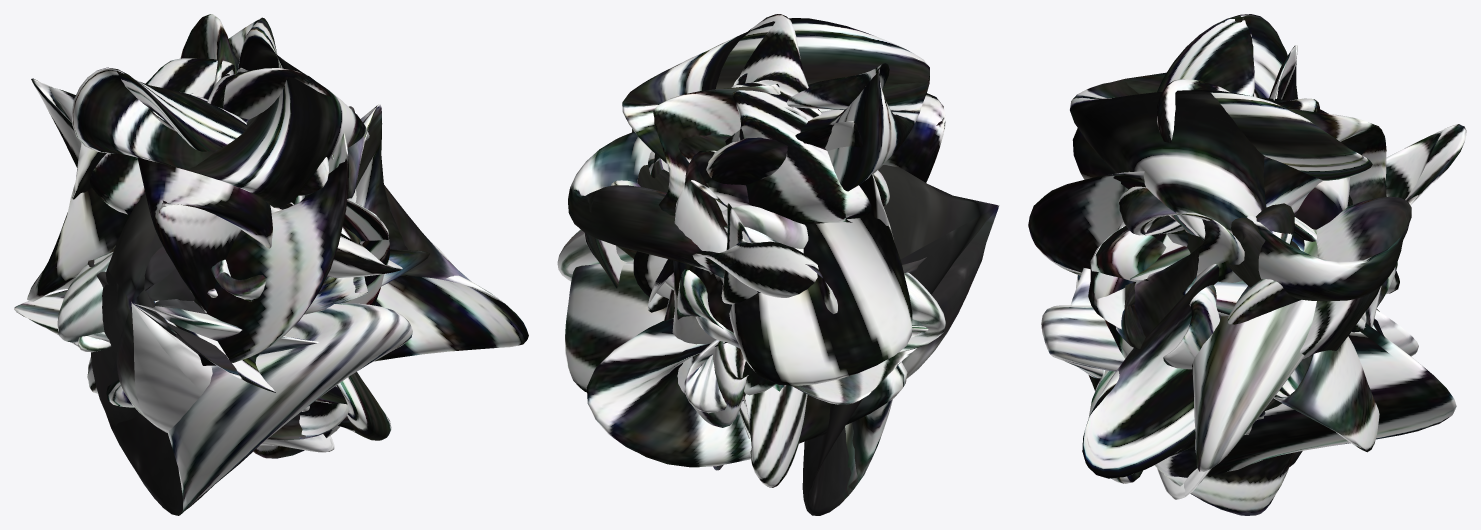
The model's file is NewShape2.glb.
3 renders of one model, left to right at view 1: azimuth 30°, elevation 25°; view 2: azimuth 150°, elevation 25°; view 3: azimuth 270°, elevation 25°, orthographic.
Visible parts, largest first — view 1: Sphere; view 2: Sphere; view 3: Sphere.
Part boxes in pixels (x1,y1,x2,y2): Sphere: [14, 14, 528, 515]; Sphere: [557, 14, 999, 515]; Sphere: [1028, 14, 1466, 515].
Bounding box in the file's own units: 5.29 × 5.74 × 5.11.
1 material, 1 textured.
